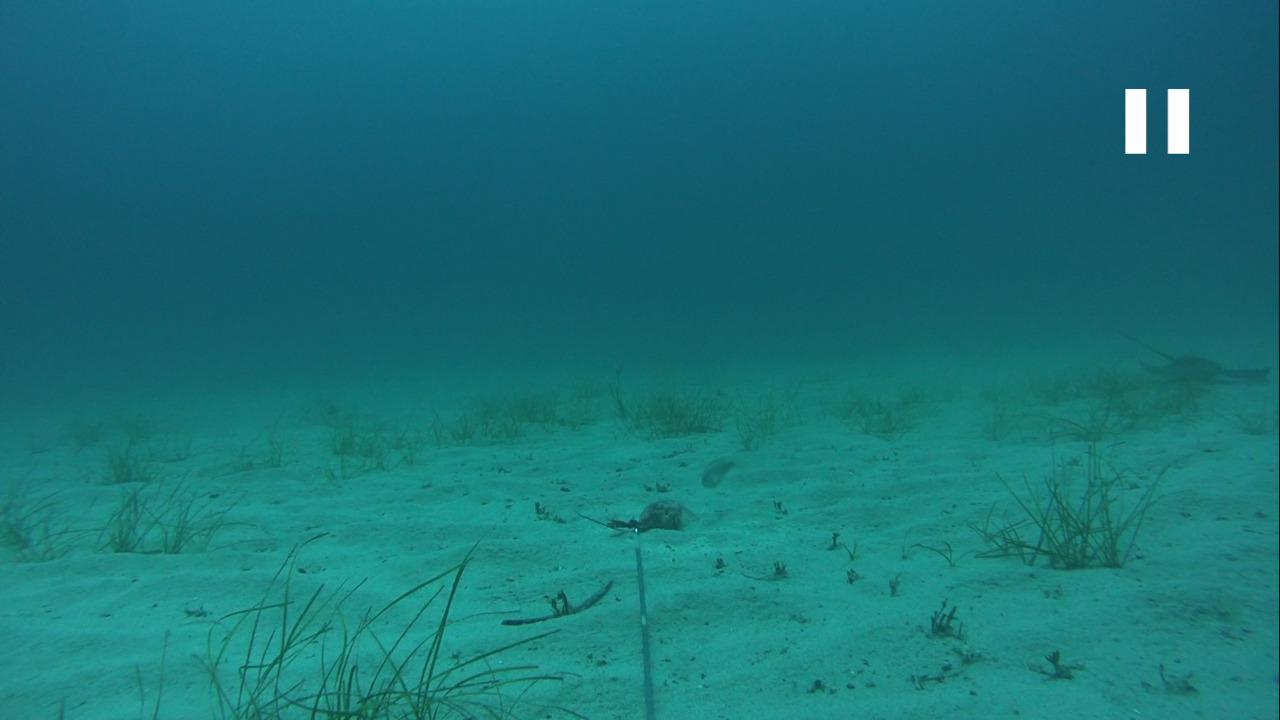myliobatis: (1106, 329, 1279, 389)
raor: (687, 453, 743, 497)
